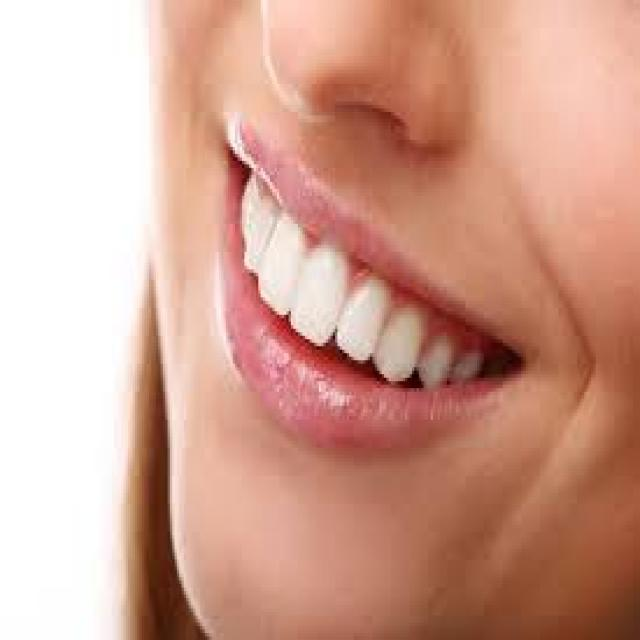tooth: (298, 262, 340, 343), (265, 227, 296, 301), (382, 315, 414, 381), (347, 286, 377, 356), (421, 336, 452, 388), (242, 210, 261, 273), (458, 350, 479, 378)
